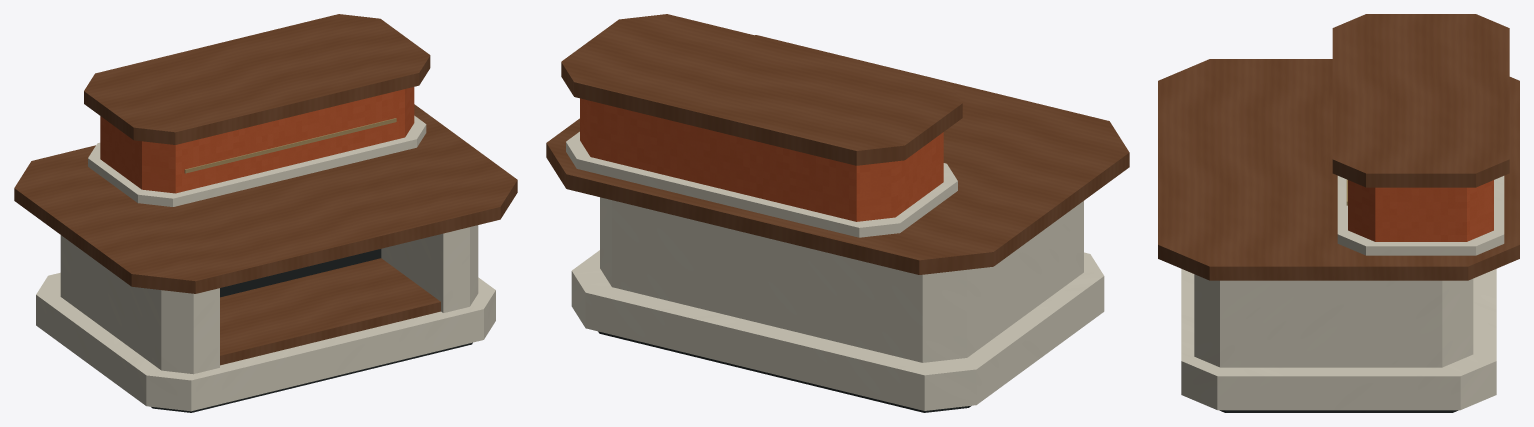
The model's file is AST-RTL-002.glb.
3 renders of one model, left to right at view 1: azimuth 30°, elevation 25°; view 2: azimuth 150°, elevation 25°; view 3: azimuth 270°, elevation 25°, orthographic. The views are drawn at different scales.
Parts seen in each view (by area): view 1: AST-RTL-002__warm_walnut, AST-RTL-002__ivory_enamel, AST-RTL-002__retail_terracotta_enamel, AST-RTL-002__dark_rubber, AST-RTL-002__champagne_metal; view 2: AST-RTL-002__ivory_enamel, AST-RTL-002__warm_walnut, AST-RTL-002__retail_terracotta_enamel, AST-RTL-002__dark_rubber; view 3: AST-RTL-002__warm_walnut, AST-RTL-002__ivory_enamel, AST-RTL-002__retail_terracotta_enamel, AST-RTL-002__dark_rubber.
Part boxes in pixels (x1,y1,x2,y2): AST-RTL-002__warm_walnut: (14, 14, 517, 365); AST-RTL-002__ivory_enamel: (36, 115, 495, 411); AST-RTL-002__retail_terracotta_enamel: (100, 87, 414, 193); AST-RTL-002__dark_rubber: (151, 249, 472, 412); AST-RTL-002__champagne_metal: (184, 118, 396, 173); AST-RTL-002__ivory_enamel: (566, 131, 1104, 410); AST-RTL-002__warm_walnut: (546, 14, 1129, 274); AST-RTL-002__retail_terracotta_enamel: (580, 98, 943, 221); AST-RTL-002__dark_rubber: (598, 331, 971, 412); AST-RTL-002__warm_walnut: (1158, 14, 1519, 280); AST-RTL-002__ivory_enamel: (1181, 176, 1504, 410); AST-RTL-002__retail_terracotta_enamel: (1348, 180, 1493, 241); AST-RTL-002__dark_rubber: (1219, 410, 1458, 412).
Bounding box in the file's own units: 1.9 × 1.05 × 1.4.
Materials: 5 (5 with a texture image).
